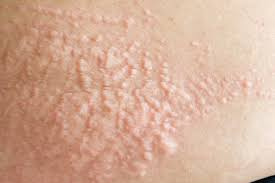herpes: (63, 55, 272, 133)
